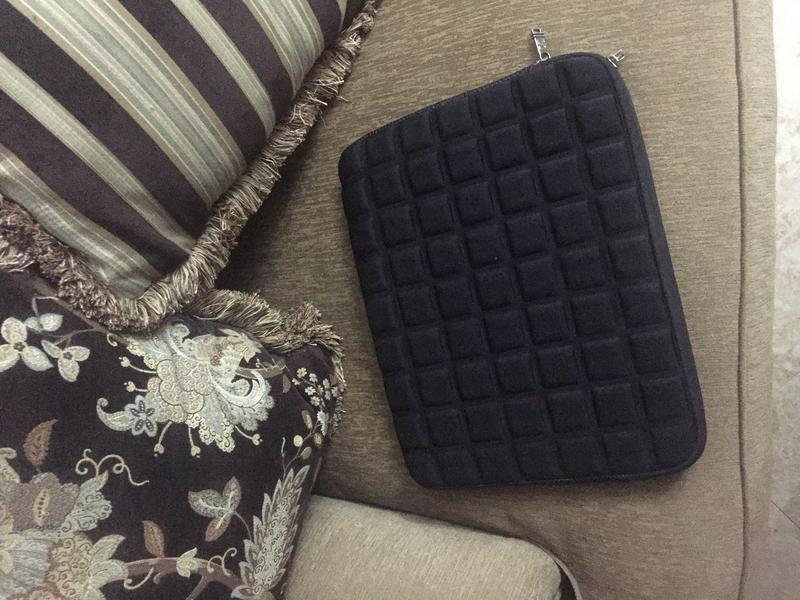cover: (334, 29, 712, 512)
